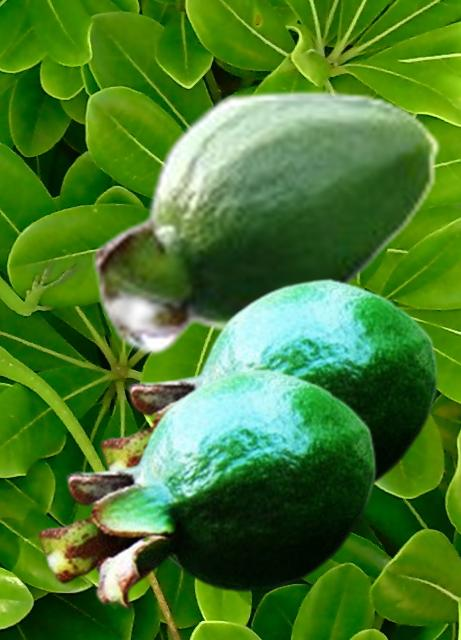guava: (92, 88, 440, 355), (37, 367, 376, 610), (99, 277, 438, 485)
